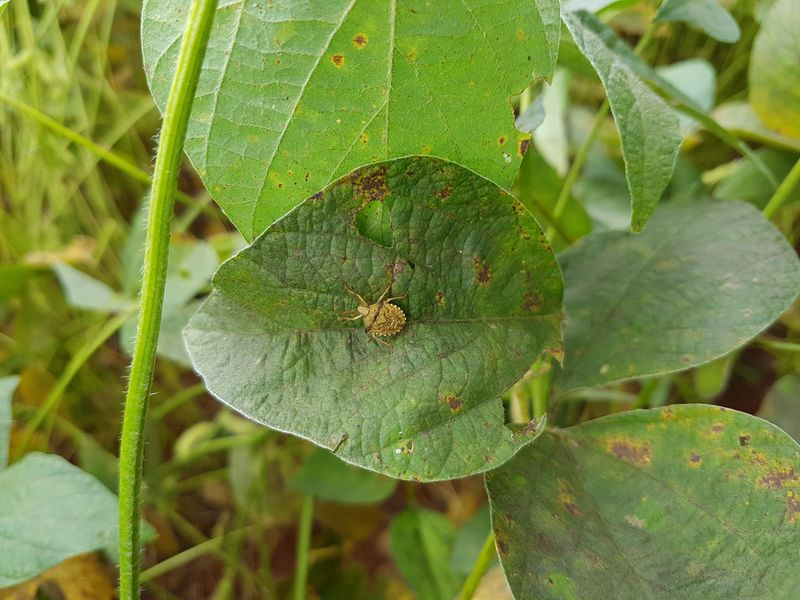Euschistus_heros_ninfa: (324, 272, 429, 360)
